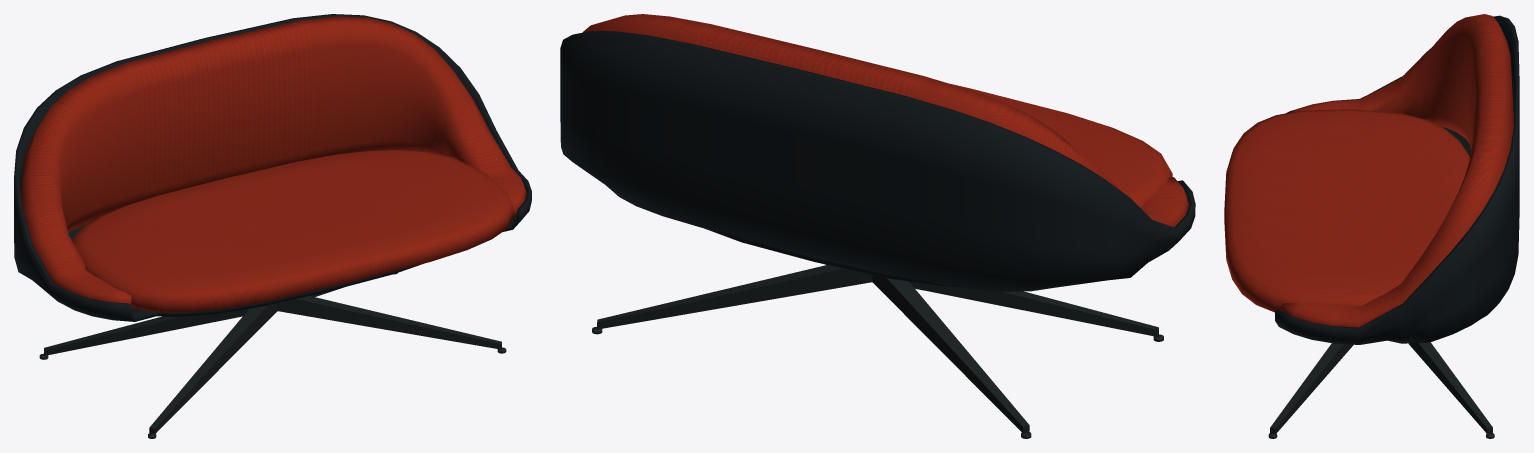
Rendered from lod2_source.glb.
3 renders of one model, left to right at view 1: azimuth 30°, elevation 25°; view 2: azimuth 150°, elevation 25°; view 3: azimuth 270°, elevation 25°, orthographic. The views are drawn at different scales.
Visible parts, largest first — view 1: Thick upholstered back and descending side wings, Independent flatter seat cushion with thin front edge, Charcoal outer backing with rolled front ends, Tapered central four star blade 1 -1, Tapered central four star blade -1 -1, Tapered central four star blade -1 1, Concealed upholstered shell underside; view 2: Charcoal outer backing with rolled front ends, Thick upholstered back and descending side wings, Independent flatter seat cushion with thin front edge, Tapered central four star blade 1 1, Tapered central four star blade -1 1, Tapered central four star blade -1 -1, Concealed upholstered shell underside; view 3: Independent flatter seat cushion with thin front edge, Thick upholstered back and descending side wings, Charcoal outer backing with rolled front ends, Tapered central four star blade 1 1, Tapered central four star blade 1 -1.
Boxes of the visible parts, left/top/right/bottom form: Thick upholstered back and descending side wings: left=21, top=16, right=526, bottom=310; Independent flatter seat cushion with thin front edge: left=72, top=149, right=513, bottom=312; Charcoal outer backing with rolled front ends: left=14, top=14, right=531, bottom=321; Tapered central four star blade 1 -1: left=277, top=296, right=501, bottom=349; Tapered central four star blade -1 -1: left=149, top=303, right=277, bottom=434; Tapered central four star blade -1 1: left=44, top=308, right=248, bottom=355; Concealed upholstered shell underside: left=157, top=264, right=422, bottom=316; Charcoal outer backing with rolled front ends: left=560, top=31, right=1195, bottom=291; Thick upholstered back and descending side wings: left=582, top=14, right=1188, bottom=227; Independent flatter seat cushion with thin front edge: left=951, top=84, right=1172, bottom=207; Tapered central four star blade 1 1: left=597, top=265, right=872, bottom=329; Tapered central four star blade -1 1: left=872, top=275, right=1029, bottom=433; Tapered central four star blade -1 -1: left=909, top=281, right=1158, bottom=337; Concealed upholstered shell underside: left=704, top=228, right=957, bottom=286; Independent flatter seat cushion with thin front edge: left=1224, top=109, right=1469, bottom=312; Thick upholstered back and descending side wings: left=1280, top=14, right=1513, bottom=327; Charcoal outer backing with rolled front ends: left=1275, top=15, right=1519, bottom=344; Tapered central four star blade 1 1: left=1408, top=342, right=1492, bottom=434; Tapered central four star blade 1 -1: left=1270, top=343, right=1353, bottom=434.
Bounding box in the file's own units: 1.53 × 0.8428 × 0.829.
4 materials, 1 textured.
